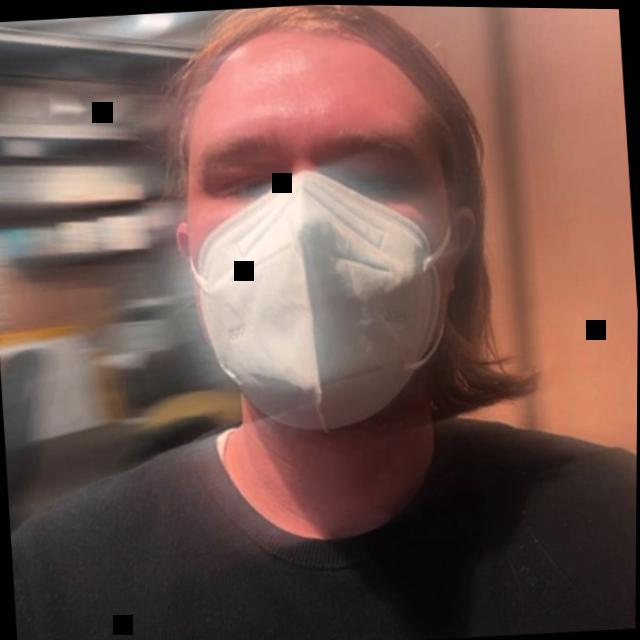Mask: (137, 2, 538, 451)
